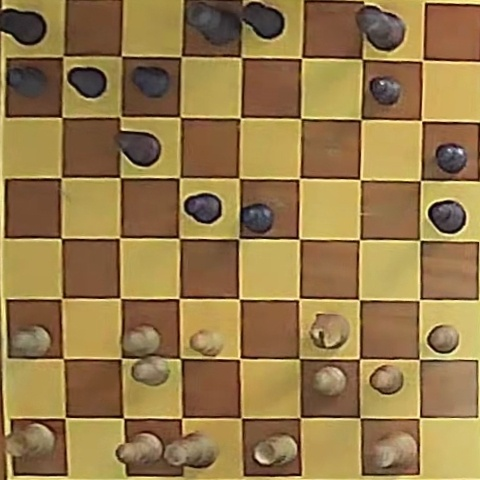black-bishop: (428, 200, 466, 234)
black-king: (356, 6, 405, 51)
black-knight: (115, 131, 161, 166)
black-pawn: (67, 67, 107, 99), (8, 66, 48, 98), (132, 66, 171, 98), (184, 193, 222, 224), (241, 203, 274, 233), (435, 143, 467, 173), (370, 76, 402, 105)
black-queen: (186, 2, 241, 46)
black-rook: (0, 8, 47, 47), (241, 2, 284, 40)
white-bishop: (117, 432, 164, 465)
white-king: (371, 432, 417, 471)
white-knight: (310, 313, 348, 348)
white-pawn: (10, 325, 51, 357), (122, 325, 161, 356), (131, 356, 169, 386), (312, 366, 347, 396), (370, 364, 404, 394), (427, 325, 459, 353), (190, 330, 223, 356)
white-queen: (164, 431, 218, 467)
white-rook: (6, 422, 56, 459), (253, 433, 297, 466)
